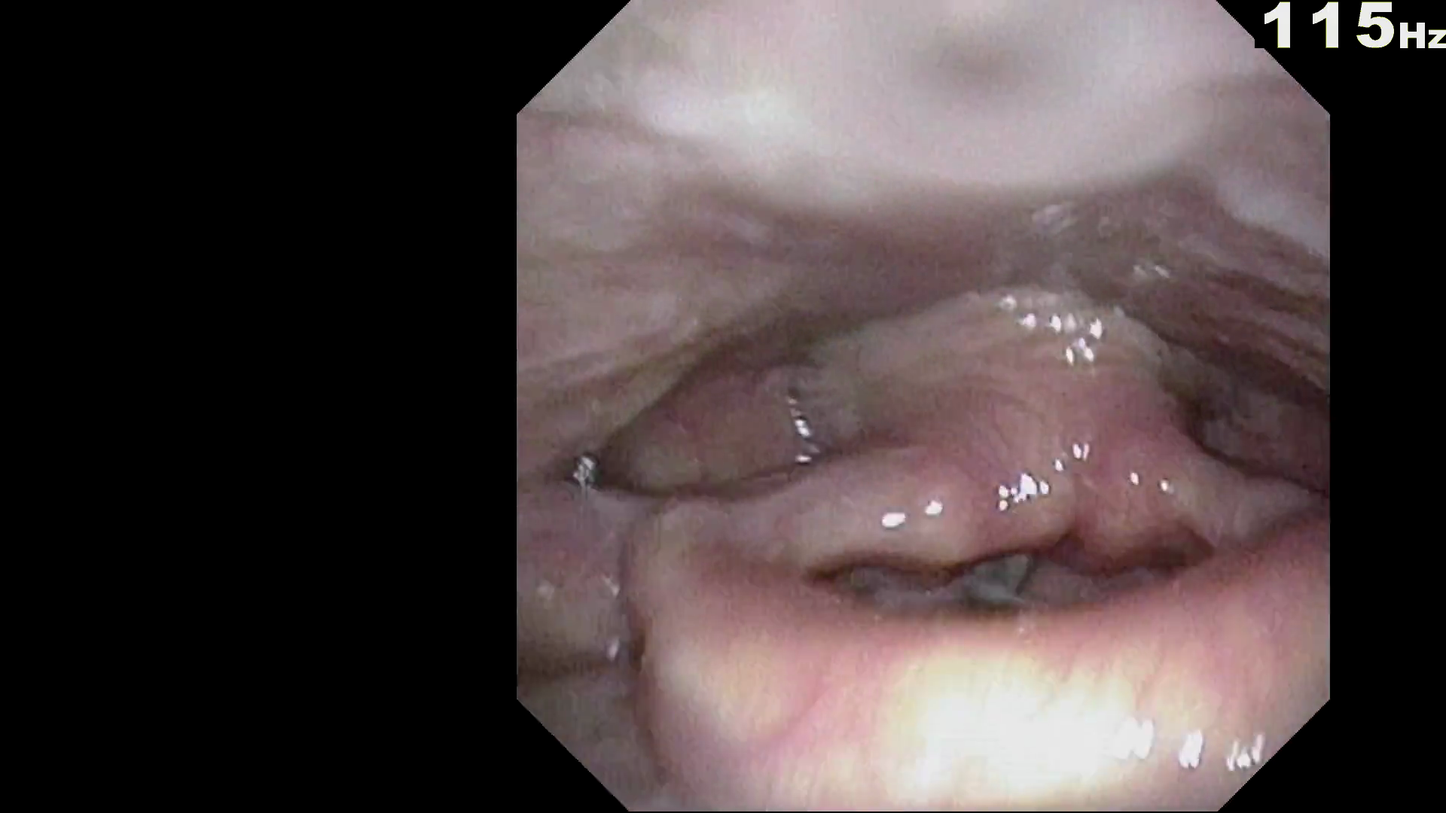epiglottis: (725, 520, 1274, 687)
